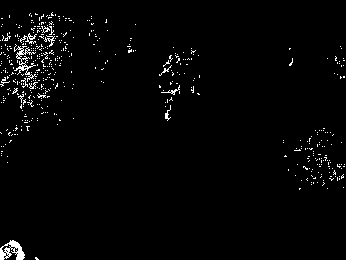person: (158, 60, 182, 122)
